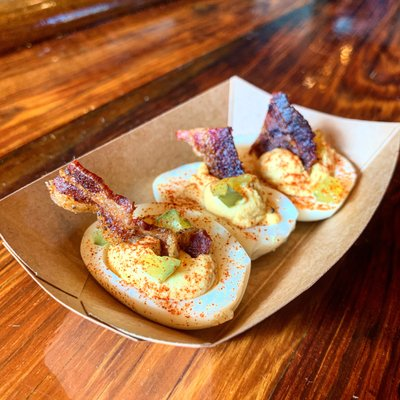curry: (2, 1, 398, 386)
